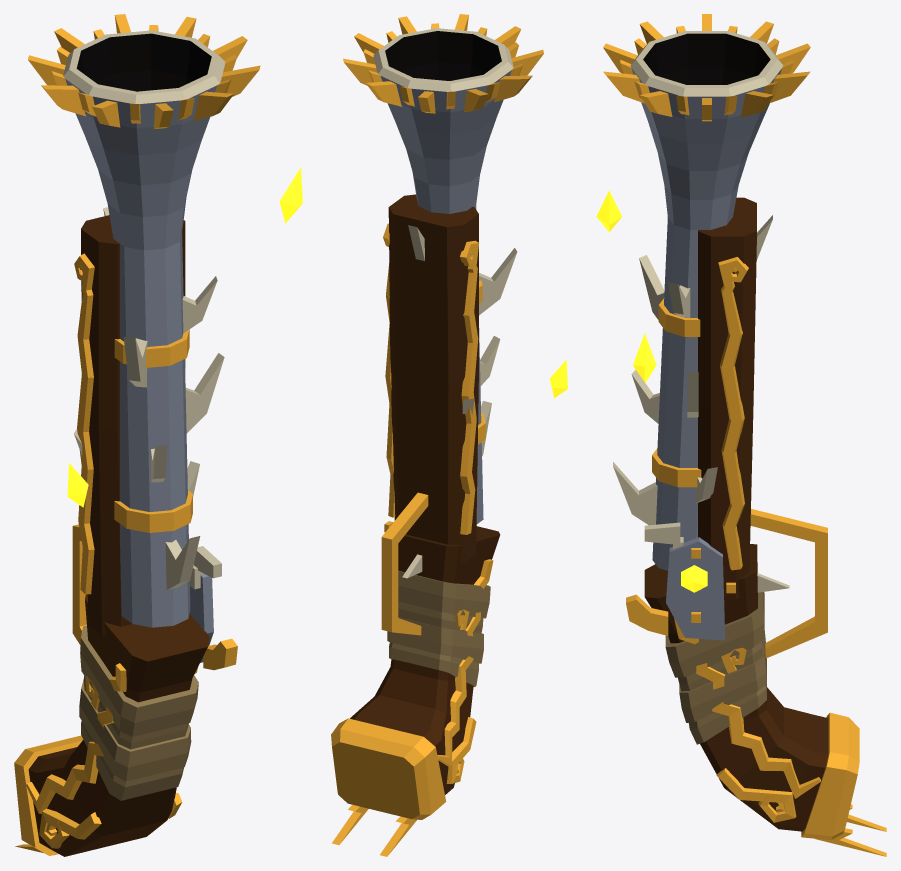
The model's file is gun_legendary.glb.
The picture shows the model from 3 angles, left to right: view 1: azimuth 30°, elevation 25°; view 2: azimuth 150°, elevation 25°; view 3: azimuth 270°, elevation 25°; orthographic projection. The views are drawn at different scales.
Visible parts, largest first — view 1: gun_legendary; view 2: gun_legendary; view 3: gun_legendary.
Part boxes in pixels (left/top/right/bottom): gun_legendary: left=14, top=14, right=302, bottom=856; gun_legendary: left=331, top=14, right=567, bottom=856; gun_legendary: left=596, top=14, right=886, bottom=856.
Bounding box in the file's own units: 39.01 × 146 × 49.11.
